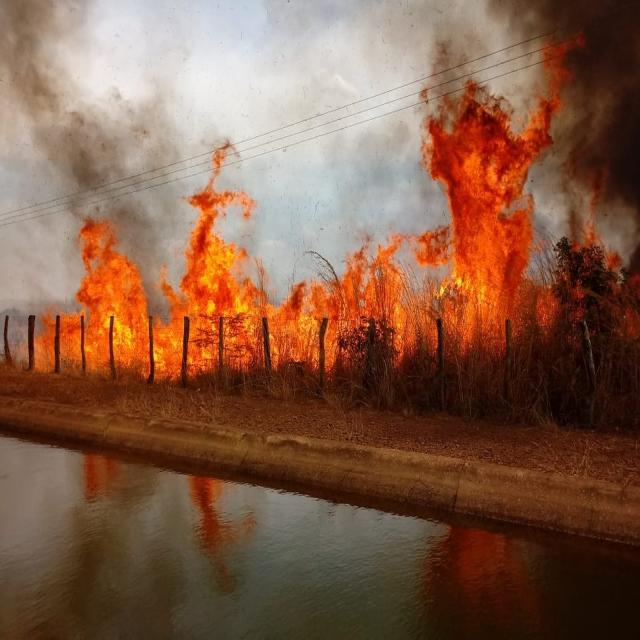fire: (426, 114, 539, 343), (165, 222, 262, 369), (277, 277, 423, 363), (76, 230, 153, 367)
